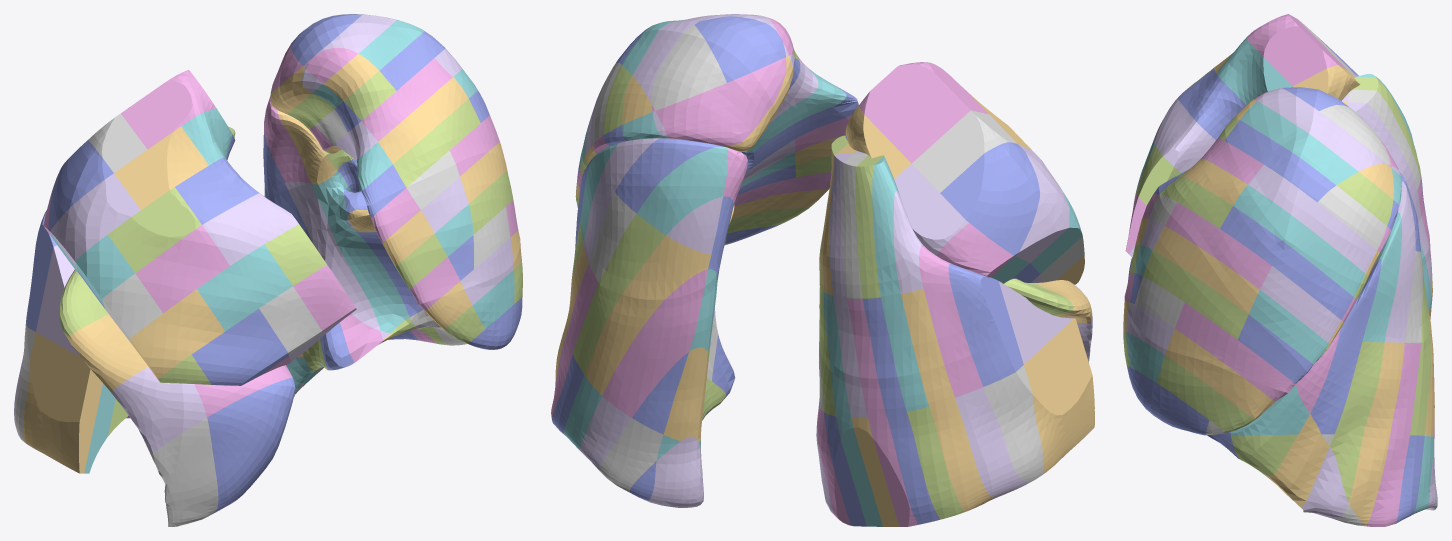
File: lung-female-small.glb
3 renders of one model, left to right at view 1: azimuth 30°, elevation 25°; view 2: azimuth 150°, elevation 25°; view 3: azimuth 270°, elevation 25°, orthographic. The views are drawn at different scales.
Parts seen in each view (by area): view 1: RLL-1B3, RML-1A2, RML-1A3, RML-2A3, RML-3A3, LLL-6B3, RUL-6A3, RUL-6A4, RUL-6A5, RUL-4A1, LLL-6B2, RUL-3A1 (+77 smaller); view 2: RLL-1B3, RLL-1A2, LLL-5A1, RUL-1A2, RLL-1A3, LLL-4A2, LUL-1A2, RUL-1A3, LUL-1B3, RUL-1A4, LLL-3A3, RLL-2A3 (+78 smaller); view 3: RUL-1A5, LLL-9A3, LLL-8A3, LLL-9B4, RUL-2A5, LUL-8A4, LUL-7A4, LUL-9A4, LLL-7A4, LUL-6A4, LLL-7A3, LUL-10A4 (+67 smaller).
Boxes of the visible parts, left/top/right/bottom form: RLL-1B3: left=23, top=332, right=102, bottom=473; RML-1A2: left=207, top=389, right=272, bottom=513; RML-1A3: left=151, top=418, right=218, bottom=526; RML-2A3: left=111, top=367, right=206, bottom=454; RML-3A3: left=67, top=314, right=148, bottom=391; LLL-6B3: left=347, top=251, right=409, bottom=333; RUL-6A3: left=225, top=309, right=288, bottom=378; RUL-6A4: left=259, top=286, right=322, bottom=355; RUL-6A5: left=293, top=265, right=356, bottom=331; RUL-4A1: left=102, top=273, right=162, bottom=343; LLL-6B2: left=311, top=171, right=372, bottom=262; RUL-3A1: left=75, top=234, right=134, bottom=306; RLL-1B3: left=1024, top=318, right=1094, bottom=474; RLL-1A2: left=950, top=270, right=1023, bottom=386; LLL-5A1: left=637, top=147, right=728, bottom=235; RUL-1A2: left=940, top=142, right=1037, bottom=222; RLL-1A3: left=983, top=365, right=1043, bottom=482; LLL-4A2: left=616, top=235, right=711, bottom=325; LUL-1A2: left=695, top=16, right=785, bottom=82; RUL-1A3: left=912, top=110, right=1016, bottom=192; LUL-1B3: left=655, top=83, right=747, bottom=145; RUL-1A4: left=883, top=81, right=988, bottom=163; LLL-3A3: left=602, top=326, right=689, bottom=417; RLL-2A3: left=955, top=387, right=1029, bottom=497; RUL-1A5: left=1246, top=14, right=1341, bottom=86; LLL-9A3: left=1310, top=341, right=1362, bottom=434; LLL-8A3: left=1335, top=342, right=1384, bottom=434; LLL-9B4: left=1265, top=434, right=1329, bottom=507; RUL-2A5: left=1216, top=38, right=1292, bottom=104; LUL-8A4: left=1260, top=266, right=1340, bottom=343; LUL-7A4: left=1272, top=243, right=1353, bottom=319; LUL-9A4: left=1248, top=290, right=1328, bottom=364; LLL-7A4: left=1348, top=434, right=1390, bottom=526; LUL-6A4: left=1285, top=222, right=1364, bottom=296; LLL-7A3: left=1363, top=342, right=1404, bottom=434; LUL-10A4: left=1238, top=315, right=1313, bottom=383.
Size of the model in its own units: 0.2511 by 0.223 by 0.1526.
